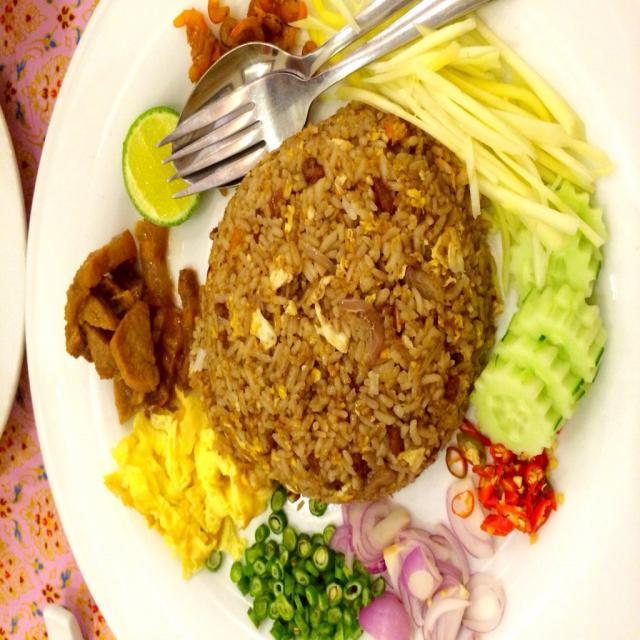Lemon: (121, 104, 205, 230)
